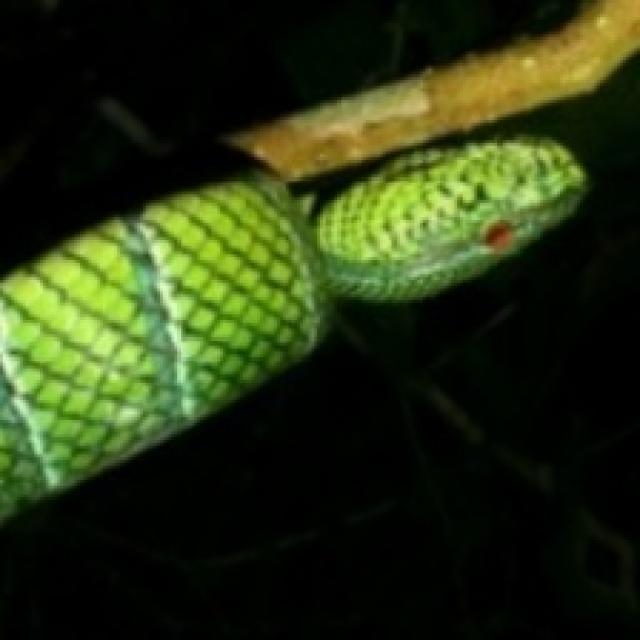north ph temple pitviper: (0, 137, 583, 517)
